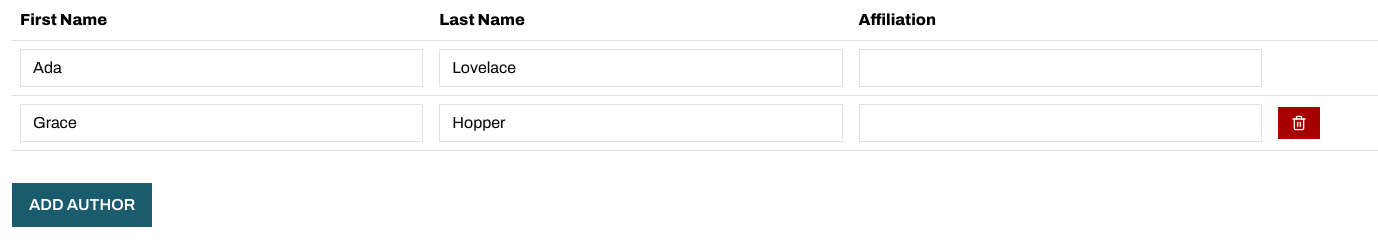
Test: Authors › removes a non-first author row when its remove button is clicked
The image size is (1378, 244).
Expected: the number of rows is 3, [12, 0, 1377, 40]; [12, 40, 1377, 96]; [12, 96, 1377, 150]
Click the 1st button at (1299, 123), box [1278, 107, 1320, 139]
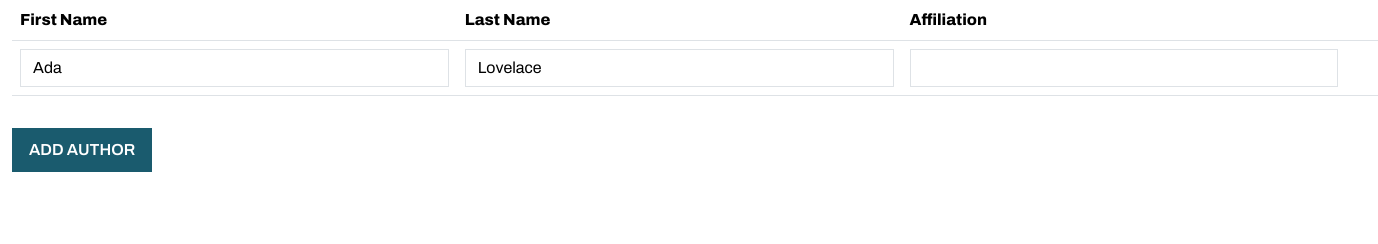
Expected: the field showing "Grace" is not shown
Result: the number of rows is 2 at [12, 0, 1377, 40]; [12, 40, 1377, 96]
